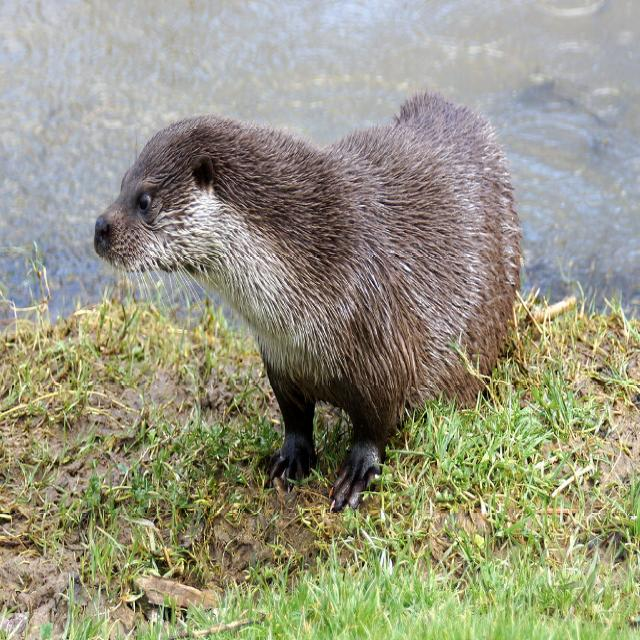otter: (95, 96, 522, 506)
